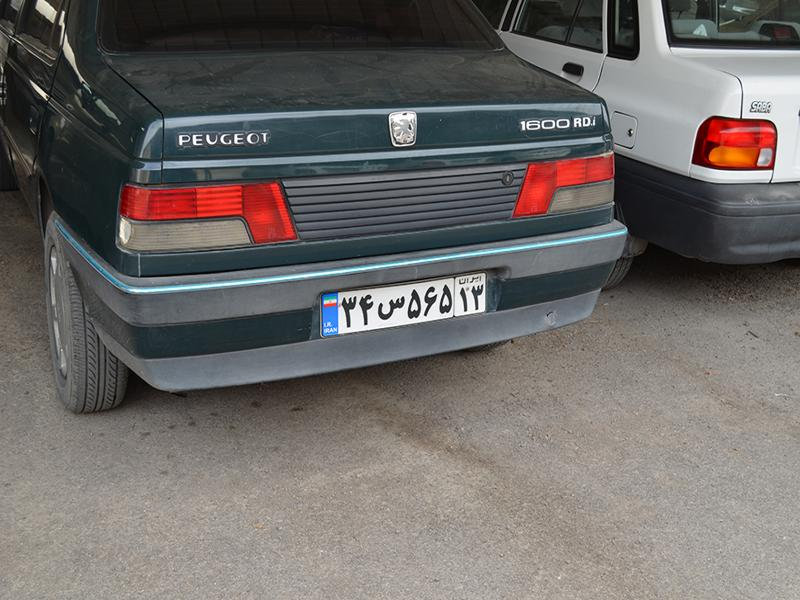Plate: (316, 276, 499, 336)
